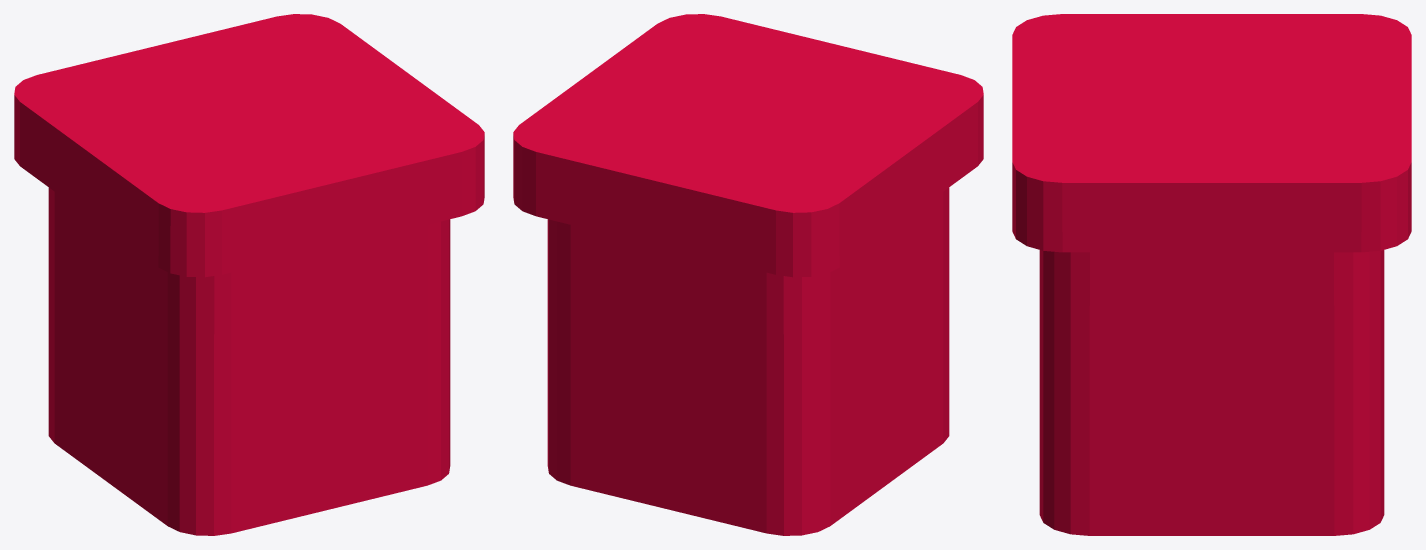
Rendered from Block_Top_Corner_Single.fbx.
3 renders of one model, left to right at view 1: azimuth 30°, elevation 25°; view 2: azimuth 150°, elevation 25°; view 3: azimuth 270°, elevation 25°, orthographic. The views are drawn at different scales.
Parts seen in each view (by area): view 1: Block_Top_Corner_Single; view 2: Block_Top_Corner_Single; view 3: Block_Top_Corner_Single.
Boxes of the visible parts, x1,y1,x2,y2 form: Block_Top_Corner_Single: (14, 14, 484, 535); Block_Top_Corner_Single: (513, 14, 983, 535); Block_Top_Corner_Single: (1012, 14, 1411, 535).
Size of the model in its own units: 174 by 175 by 174.
